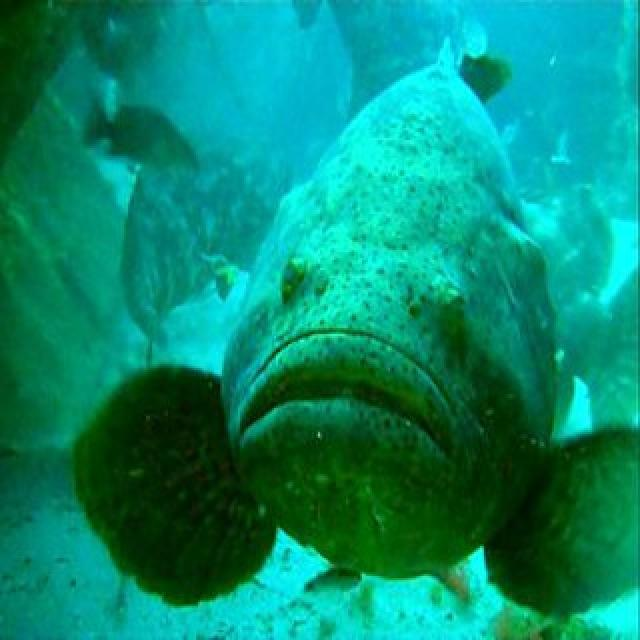grouper: (68, 18, 640, 624)
